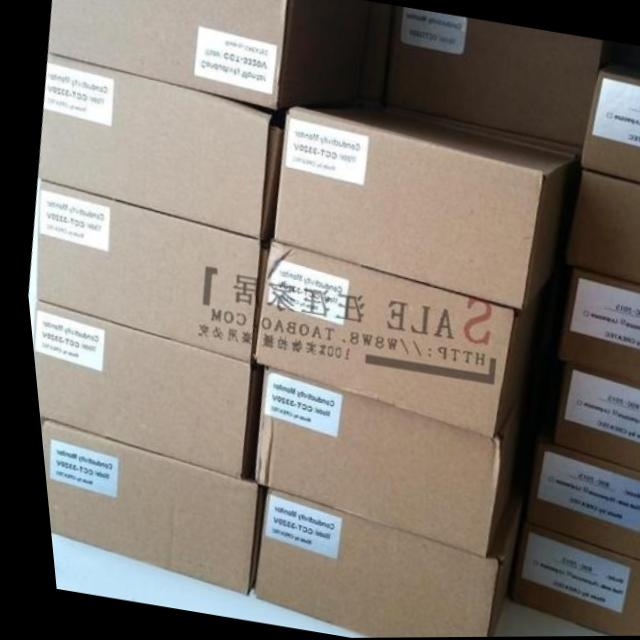box: (269, 92, 568, 309), (246, 241, 547, 438), (243, 366, 512, 557), (35, 52, 280, 239), (29, 182, 268, 360), (241, 486, 517, 638), (26, 300, 254, 480), (34, 422, 256, 592), (376, 6, 602, 156), (46, 0, 316, 110), (494, 523, 640, 637), (513, 441, 640, 564), (542, 361, 640, 475), (551, 268, 640, 386), (561, 167, 640, 287), (576, 73, 640, 185)
